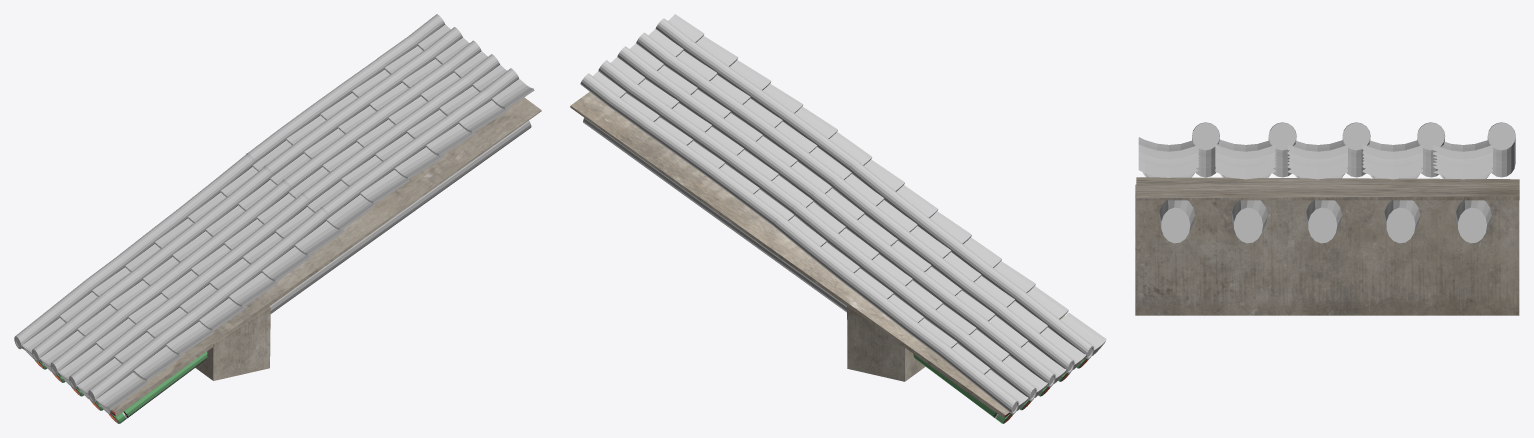
Rendered from SM_Roof_16.fbx.
3 renders of one model, left to right at view 1: azimuth 30°, elevation 25°; view 2: azimuth 150°, elevation 25°; view 3: azimuth 270°, elevation 25°, orthographic. The views are drawn at different scales.
Visible parts, largest first — view 1: SM_Roof_16; view 2: SM_Roof_16; view 3: SM_Roof_16.
Boxes of the visible parts, x1=… form: SM_Roof_16: x1=14, y1=14, x2=541, y2=423; SM_Roof_16: x1=570, y1=14, x2=1106, y2=423; SM_Roof_16: x1=1135, y1=122, x2=1519, y2=315.
Size of the model in its own units: 549 by 211 by 303.
